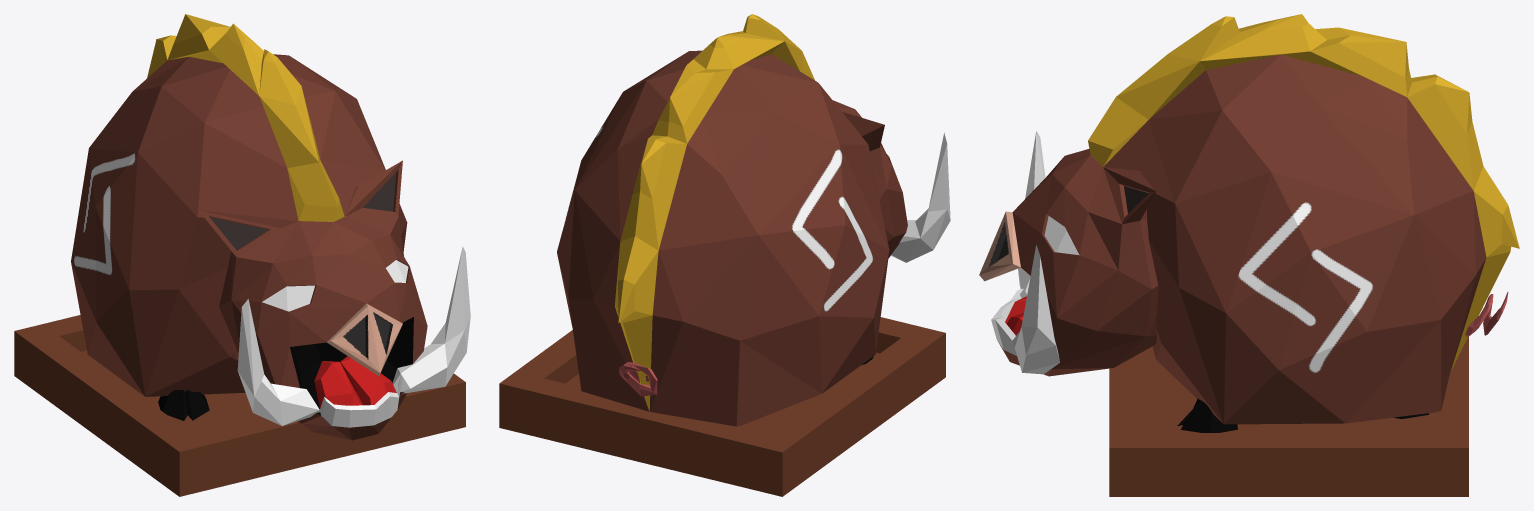
Rendered from 3d_minion_gullinburst_red_v3_1.fbx.
The picture shows the model from 3 angles, left to right: view 1: azimuth 30°, elevation 25°; view 2: azimuth 150°, elevation 25°; view 3: azimuth 270°, elevation 25°; orthographic projection. The views are drawn at different scales.
Visible parts, largest first — view 1: gullinbursti, SM_will_o_wisp_01; view 2: gullinbursti, SM_will_o_wisp_01; view 3: gullinbursti, SM_will_o_wisp_01.
Part boxes in pixels (x1,y1,x2,y2): gullinbursti: [71, 14, 470, 440]; SM_will_o_wisp_01: [14, 315, 465, 496]; gullinbursti: [557, 14, 950, 426]; SM_will_o_wisp_01: [499, 317, 945, 496]; gullinbursti: [979, 14, 1519, 432]; SM_will_o_wisp_01: [1109, 336, 1468, 496].
Size of the model in its own units: 103 by 125 by 150.
2 materials, 2 textured.
